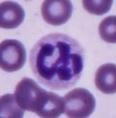N: (29, 32, 86, 88)
